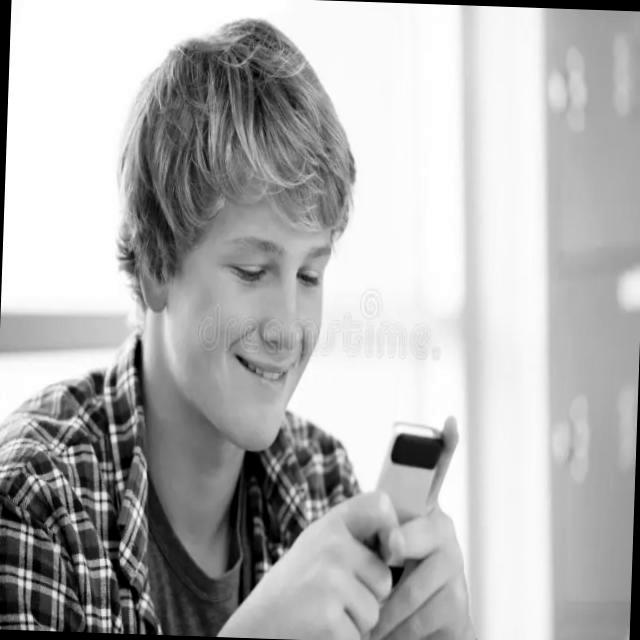phone: (362, 419, 444, 594)
